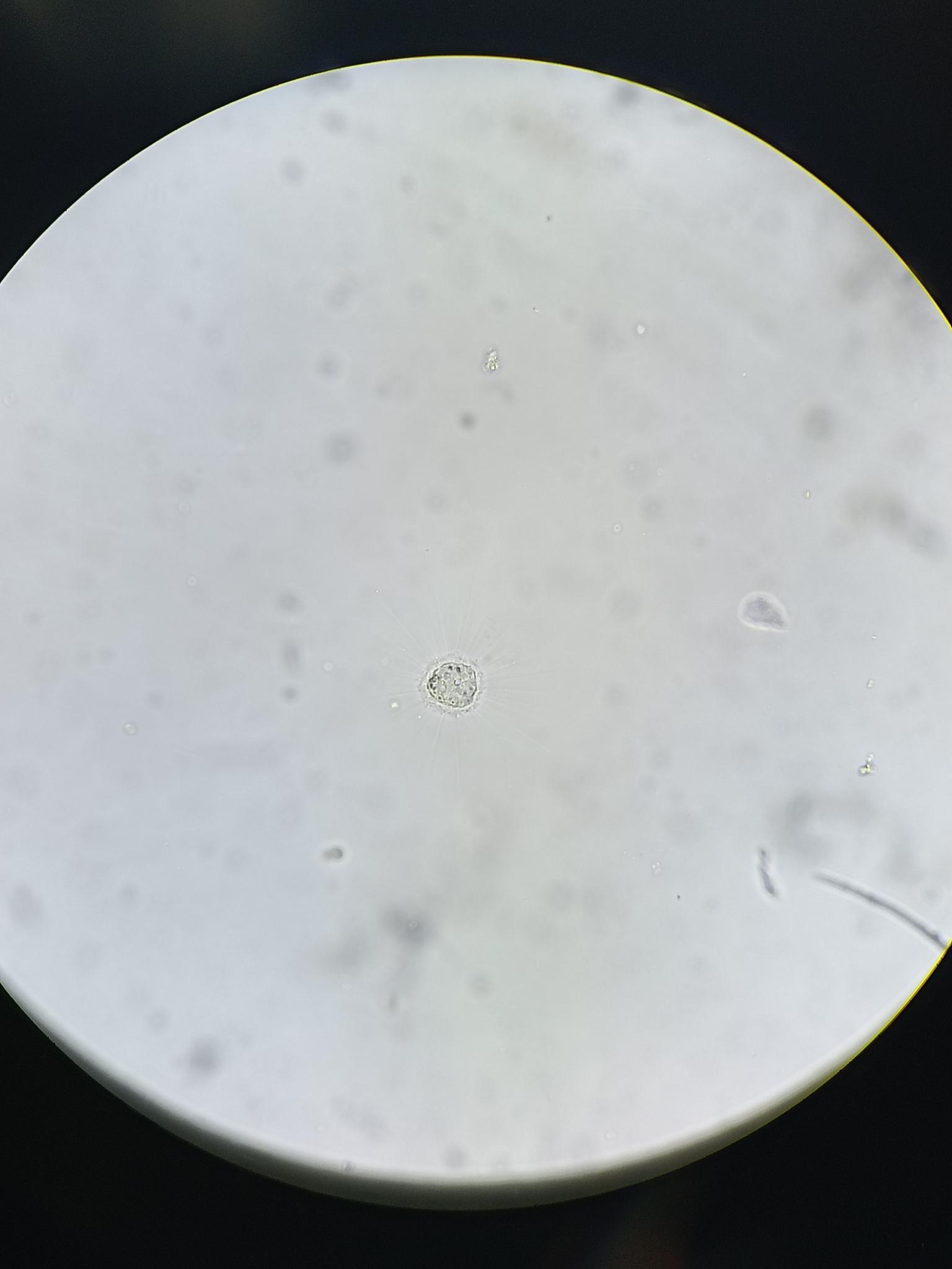Chlorella: (378, 589, 555, 780)
